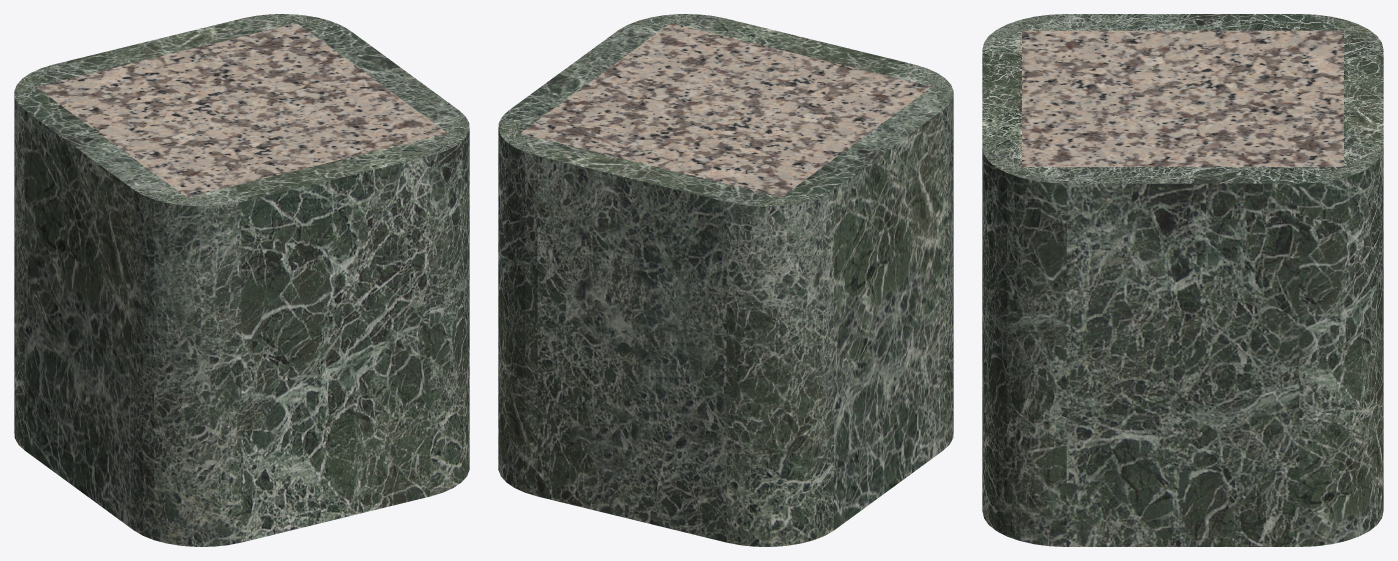
Rendered from RoundCornered Marble Piece.fbx.
3 views of the same model, side by side, from view 1: azimuth 30°, elevation 25°; view 2: azimuth 150°, elevation 25°; view 3: azimuth 270°, elevation 25° (orthographic). The views are drawn at different scales.
Parts seen in each view (by area): view 1: Cube; view 2: Cube; view 3: Cube.
Part boxes in pixels (<box>): Cube: <box>14,14,469,546</box>; Cube: <box>498,14,953,546</box>; Cube: <box>982,14,1383,546</box>.
Size of the model in its own units: 200 by 200 by 200.
